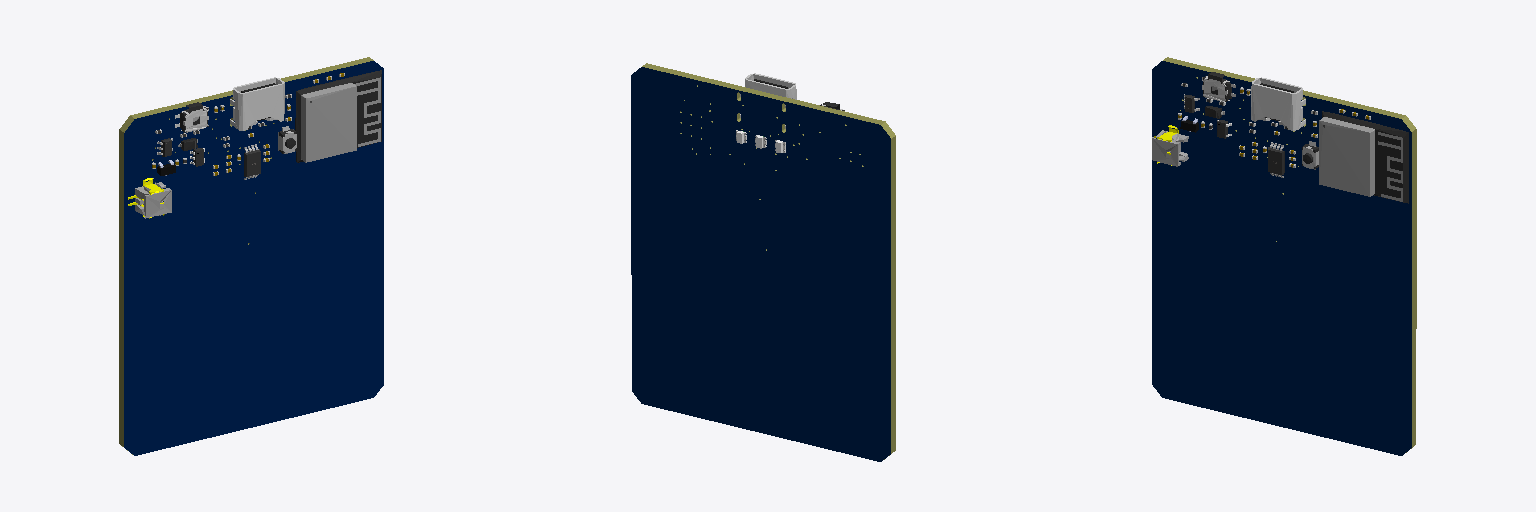
Rendered from REAM_PCB.obj.
3 views of the same model, side by side, from view 1: azimuth 30°, elevation 25°; view 2: azimuth 150°, elevation 25°; view 3: azimuth 330°, elevation 25° (orthographic).
Size of the model in its own units: 49.98 by 63.35 by 6.03.